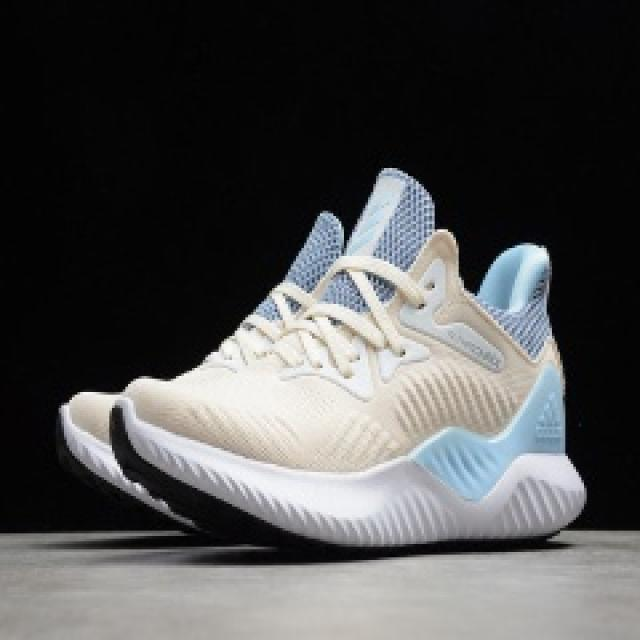shoes: (24, 212, 608, 559)
